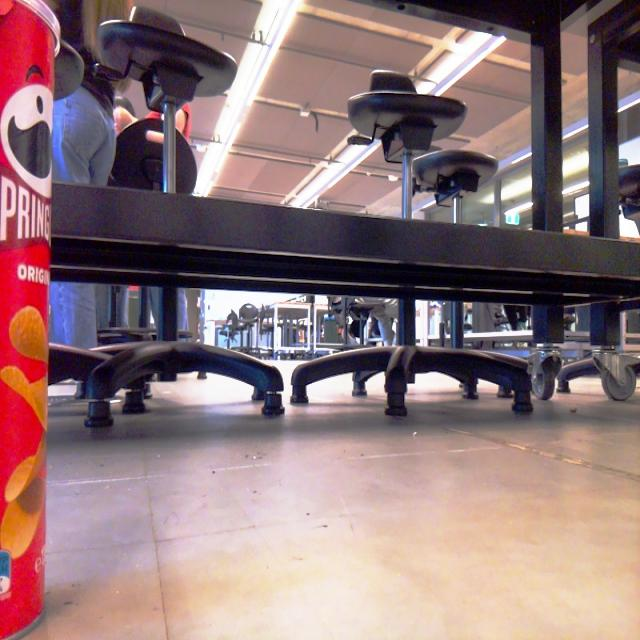redpringles: (0, 4, 83, 640)
